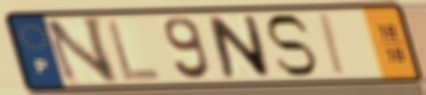9: (163, 15, 213, 82)
I: (318, 12, 350, 78)
L: (104, 17, 165, 83)
N: (40, 14, 122, 88), (205, 13, 274, 80)
S: (263, 12, 320, 79)
